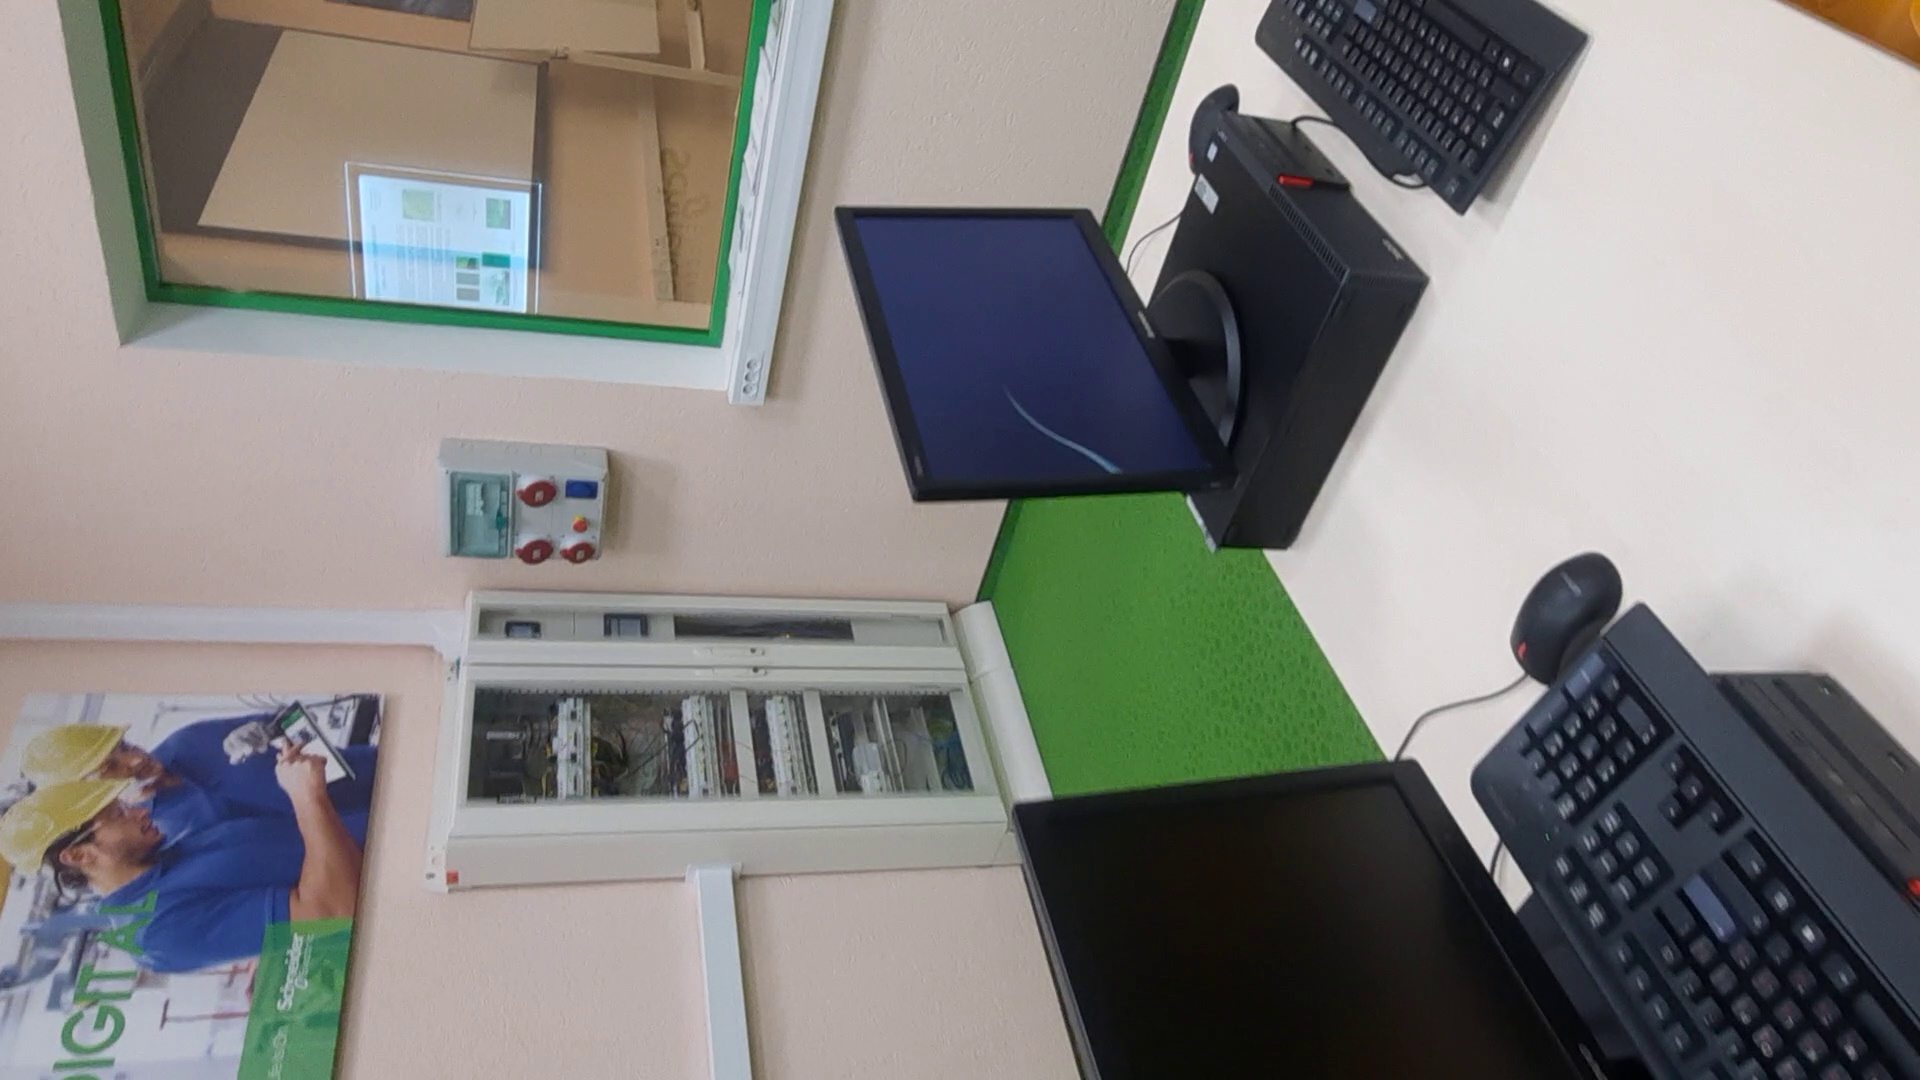stand1: (427, 572, 1039, 882)
